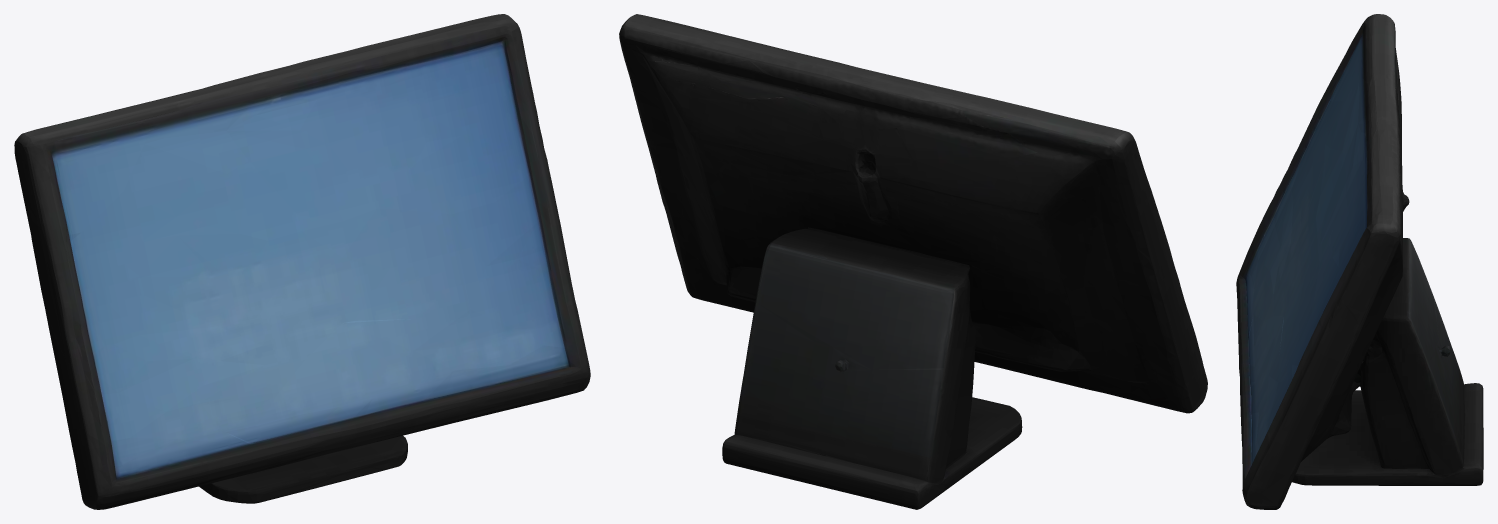
The model's file is tablet_blue_2.glb.
3 views of the same model, side by side, from view 1: azimuth 30°, elevation 25°; view 2: azimuth 150°, elevation 25°; view 3: azimuth 270°, elevation 25° (orthographic). The views are drawn at different scales.
Parts seen in each view (by area): view 1: geometry_0; view 2: geometry_0; view 3: geometry_0.
Boxes of the visible parts, <box> form: geometry_0: <box>14,14,590,509</box>; geometry_0: <box>619,14,1207,509</box>; geometry_0: <box>1236,14,1483,509</box>.
Size of the model in its own units: 0.9996 by 0.7061 by 0.485.
Materials: 1 (1 with a texture image).
